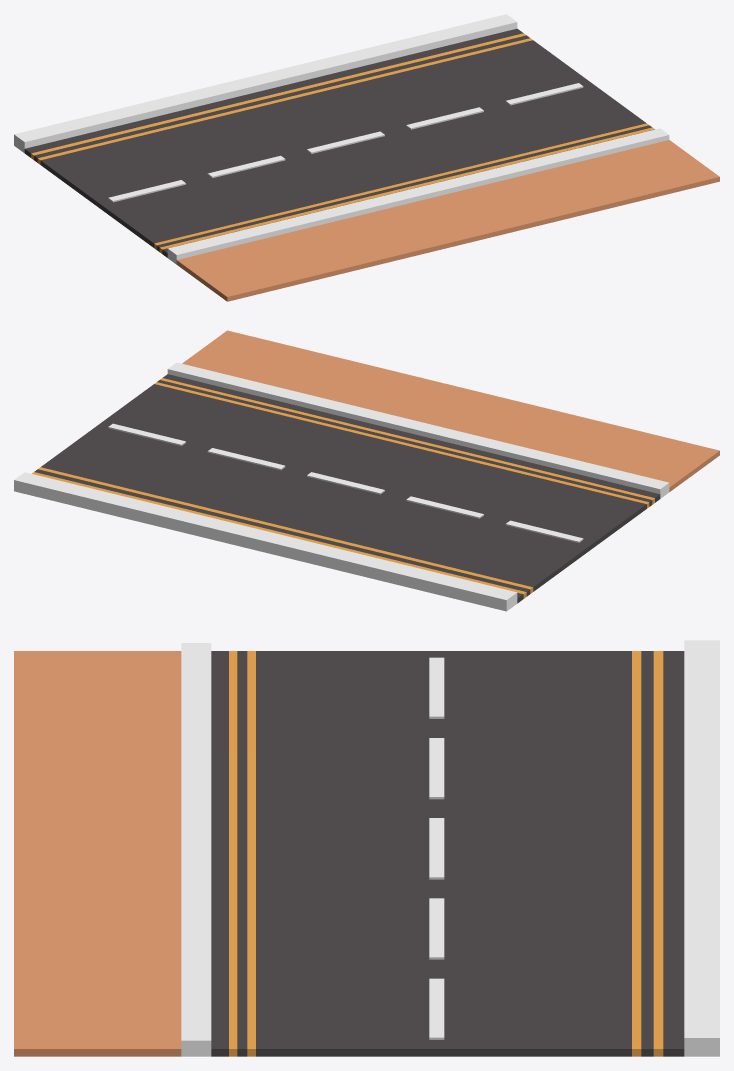
File: road_wallroad.fbx
The picture shows the model from 3 angles, top to bottom: view 1: azimuth 30°, elevation 25°; view 2: azimuth 150°, elevation 25°; view 3: azimuth 270°, elevation 25°; orthographic projection. The views are drawn at different scales.
Parts seen in each view (by area): view 1: road_wallroad; view 2: road_wallroad; view 3: road_wallroad.
Part boxes in pixels (x1=…): road_wallroad: x1=14, y1=14, x2=719, y2=301; road_wallroad: x1=14, y1=330, x2=719, y2=611; road_wallroad: x1=14, y1=640, x2=719, y2=1056.
Bounding box in the file's own units: 490 × 10.75 × 367.
